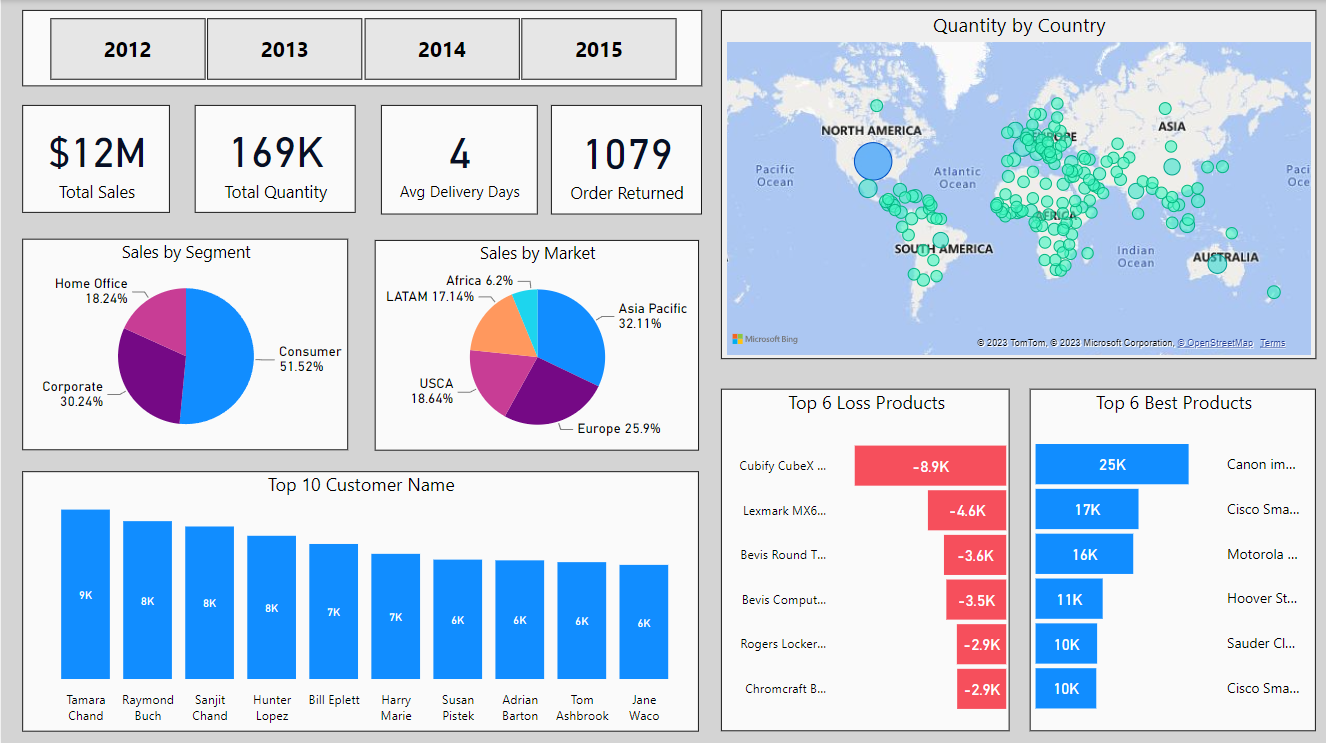

The dashboard page shown, as its layout file describes it:
{"tool":"powerbi","page":{"name":"Page 1","canvas":[1280,720],"ordinal":0},"visuals":[{"type":"card","fields":{"Values":["Orders.Sales"]},"box":[20.6,101.5,142.7,104.3],"z":0},{"type":"card","fields":{"Values":["Orders.Quantity"]},"box":[186.6,101.5,155.1,104.3],"z":1000},{"type":"card","fields":{"Values":["Orders.Delivery Days"]},"box":[366.4,101.5,150.9,105.7],"z":2000},{"type":"slicer","title":"Years","fields":{"Values":["Orders.Year"]},"box":[20.5,9.6,656.1,73.6],"z":3000},{"type":"card","fields":{"Values":["Returns.Return Order"]},"box":[531,101.5,145.5,105.7],"z":4000},{"type":"map","title":"Quantity by Country","fields":{"Category":["Orders.Country"],"Size":["Orders.Quantity"]},"box":[694.7,9.6,574.1,336.5],"z":5000},{"type":"barChart","title":"Top 6 Best Products","fields":{"Category":["Orders.Product Name"],"Y":["Orders.Profit"]},"box":[992.1,374.6,275.8,330.7],"z":6000},{"type":"barChart","title":"Top 6 Loss Products","fields":{"Category":["Orders.Product Name"],"Y":["Orders.Profit"]},"box":[694.7,375.1,278.6,330.5],"z":7000},{"type":"pieChart","title":"Sales by Segment","fields":{"Category":["Orders.Segment"],"Y":["Orders.Sales"]},"box":[20.5,230.4,314.8,203.8],"z":8000},{"type":"pieChart","title":"Sales by Market","fields":{"Y":["Orders.Sales"],"Category":["Orders.Market"]},"box":[360.9,231.9,312.9,203.1],"z":9000},{"type":"columnChart","title":"Top 10 Customer Name","fields":{"Category":["Orders.Customer Name"],"Y":["Orders.Profit"]},"box":[20.5,454.7,652.5,250.9],"z":10000}]}

Visuals, with their boxes in screenshot pixels (x1, y1, x2, y2), scaled from the page's 1280x720 canvas onto the 1329x743 screenshot:
card - Orders.Sales: 21/105/170/212
card - Orders.Quantity: 194/105/355/212
card - Orders.Delivery Days: 380/105/537/214
"Years" slicer: 21/10/703/86
card - Returns.Return Order: 551/105/702/214
"Quantity by Country" map: 721/10/1317/357
"Top 6 Best Products" barChart: 1030/387/1316/728
"Top 6 Loss Products" barChart: 721/387/1011/728
"Sales by Segment" pieChart: 21/238/348/448
"Sales by Market" pieChart: 375/239/700/449
"Top 10 Customer Name" columnChart: 21/469/699/728
